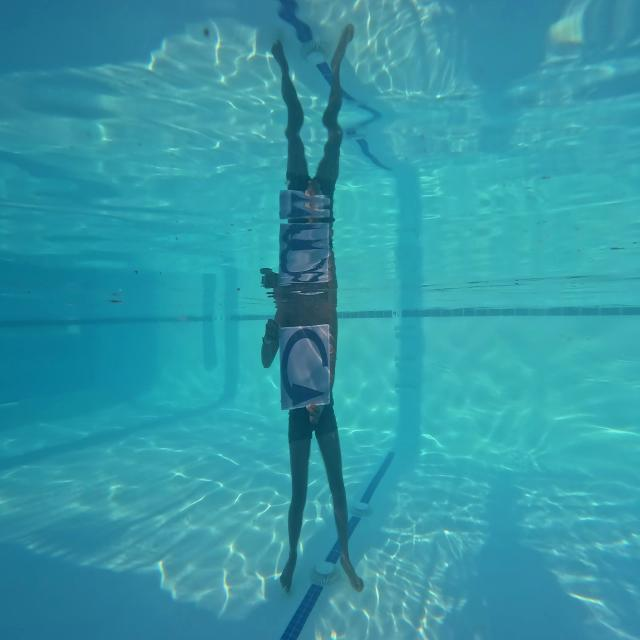blue_side: (282, 324, 334, 409)
